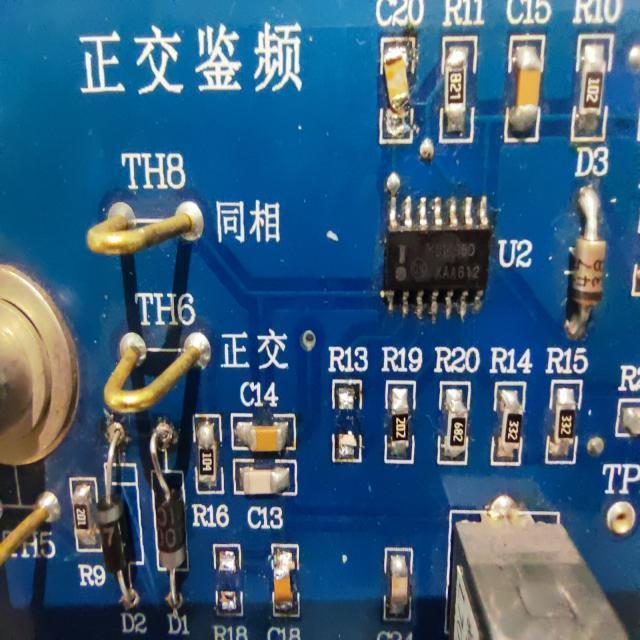Missing component: (322, 336, 370, 476), (210, 540, 248, 640)
